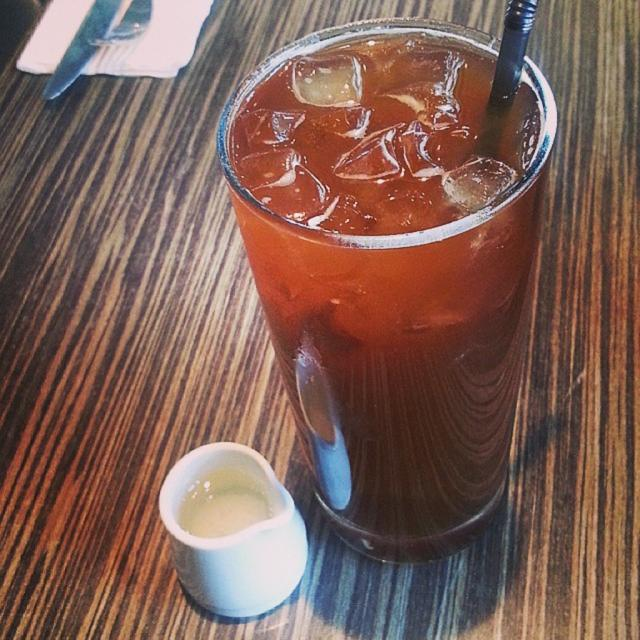Tea: (223, 37, 546, 558)
